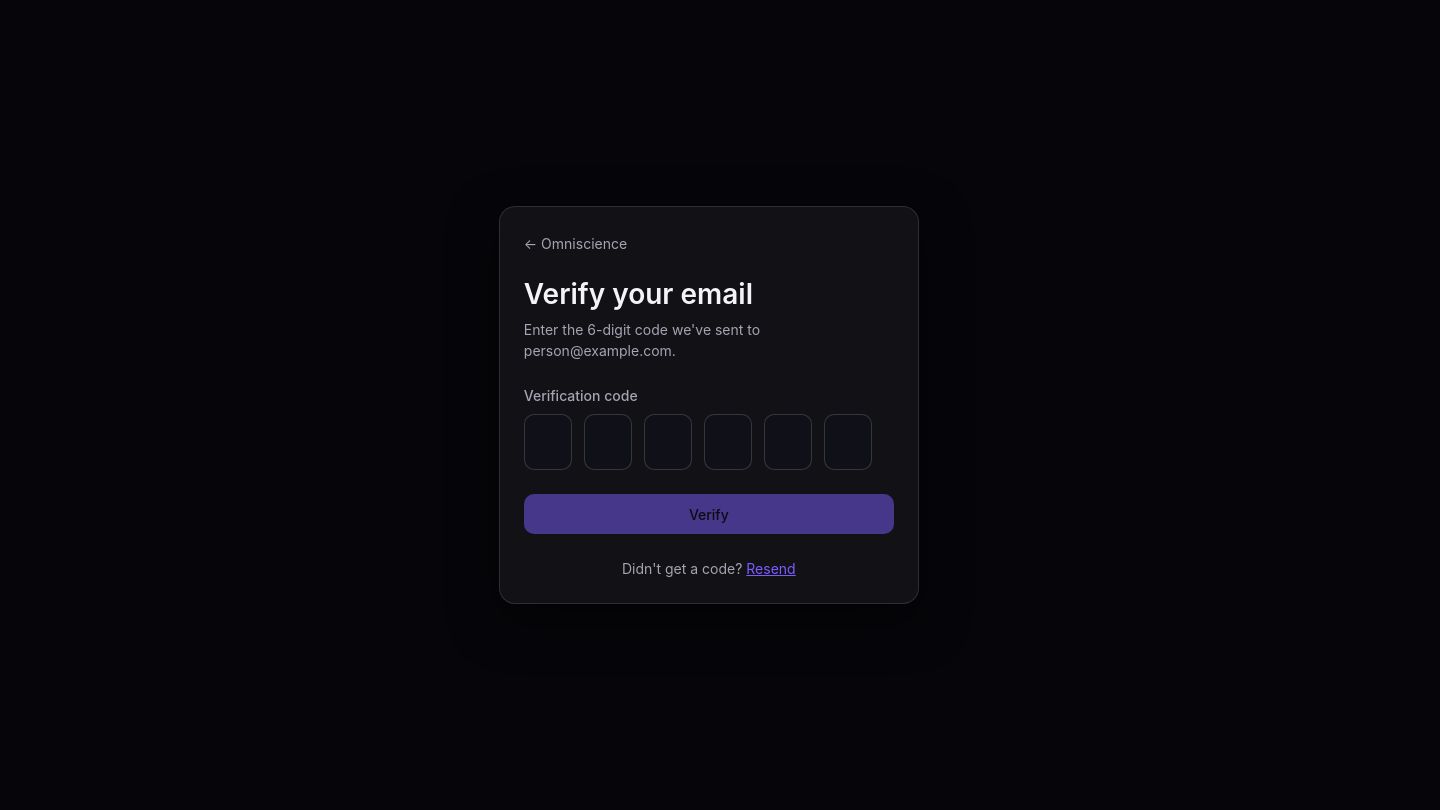
VerifyOtpPage › shows an inline OTP error and stays on the page when the code is incorrect
Step 1. Type "0" into the field named "Digit 1 of 6" → x=548, y=442, box x1=524 y1=414 x2=572 y2=470
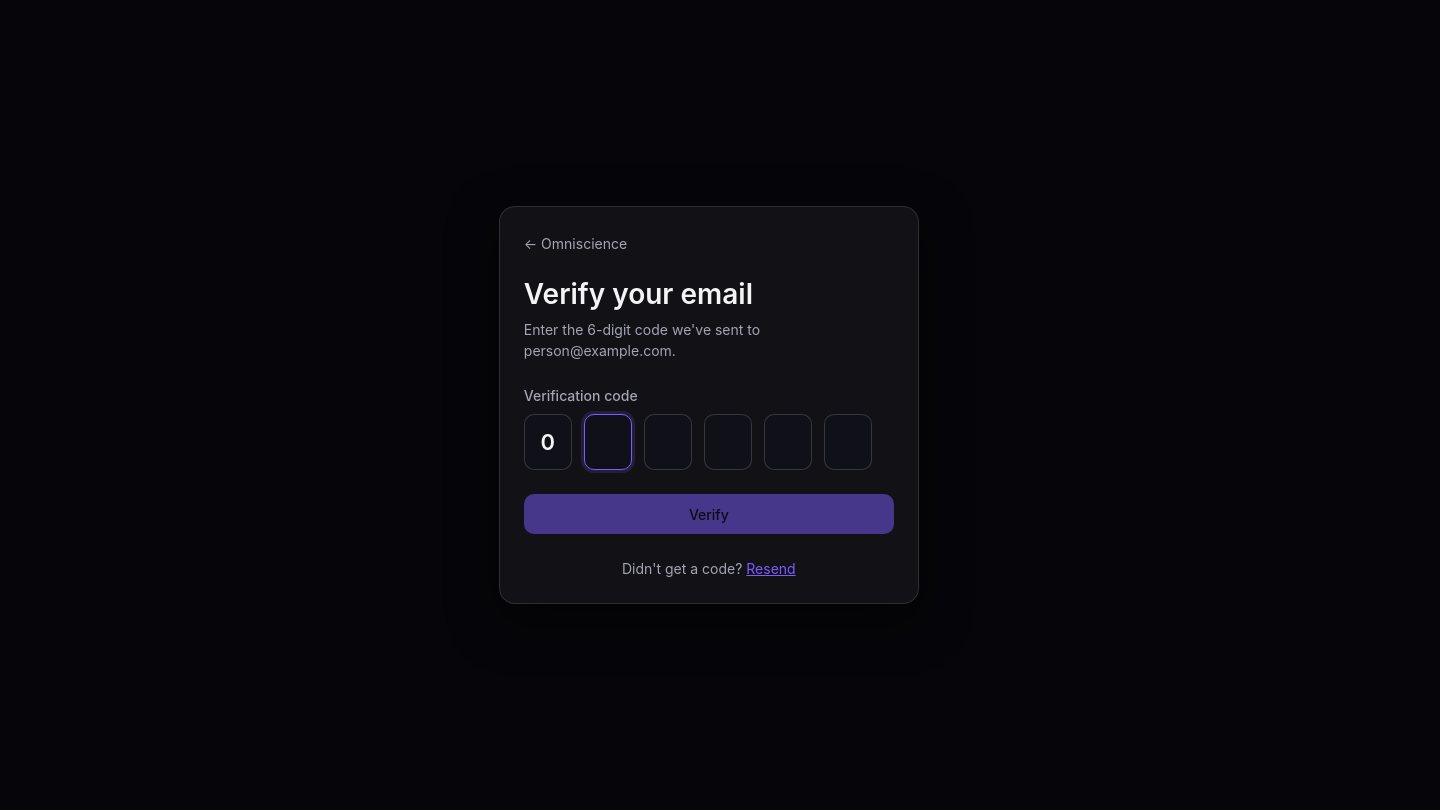
Step 2. Type "0" into the field named "Digit 2 of 6" → x=608, y=442, box x1=584 y1=414 x2=632 y2=470
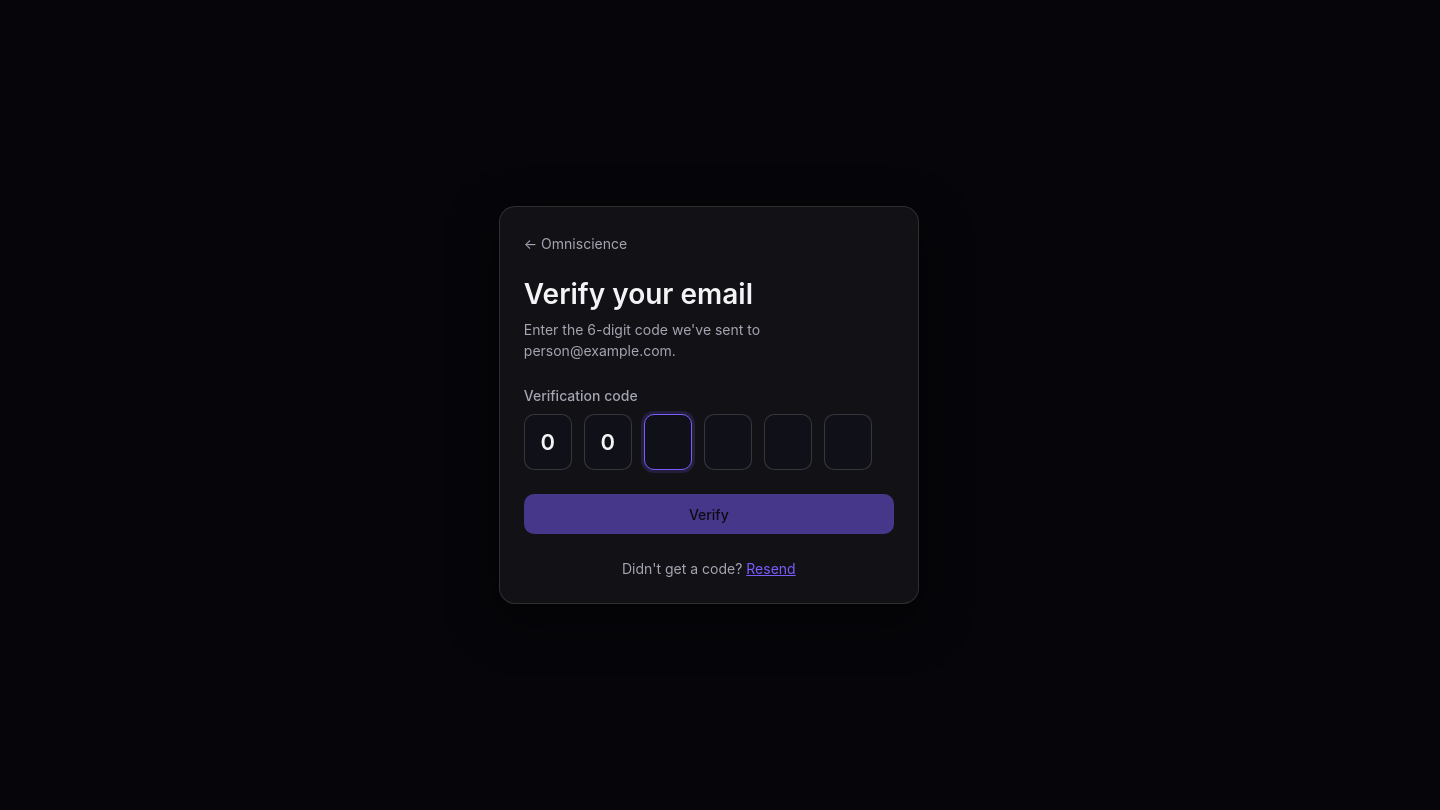
Step 3. Type "0" into the field named "Digit 3 of 6" → x=668, y=442, box x1=644 y1=414 x2=692 y2=470
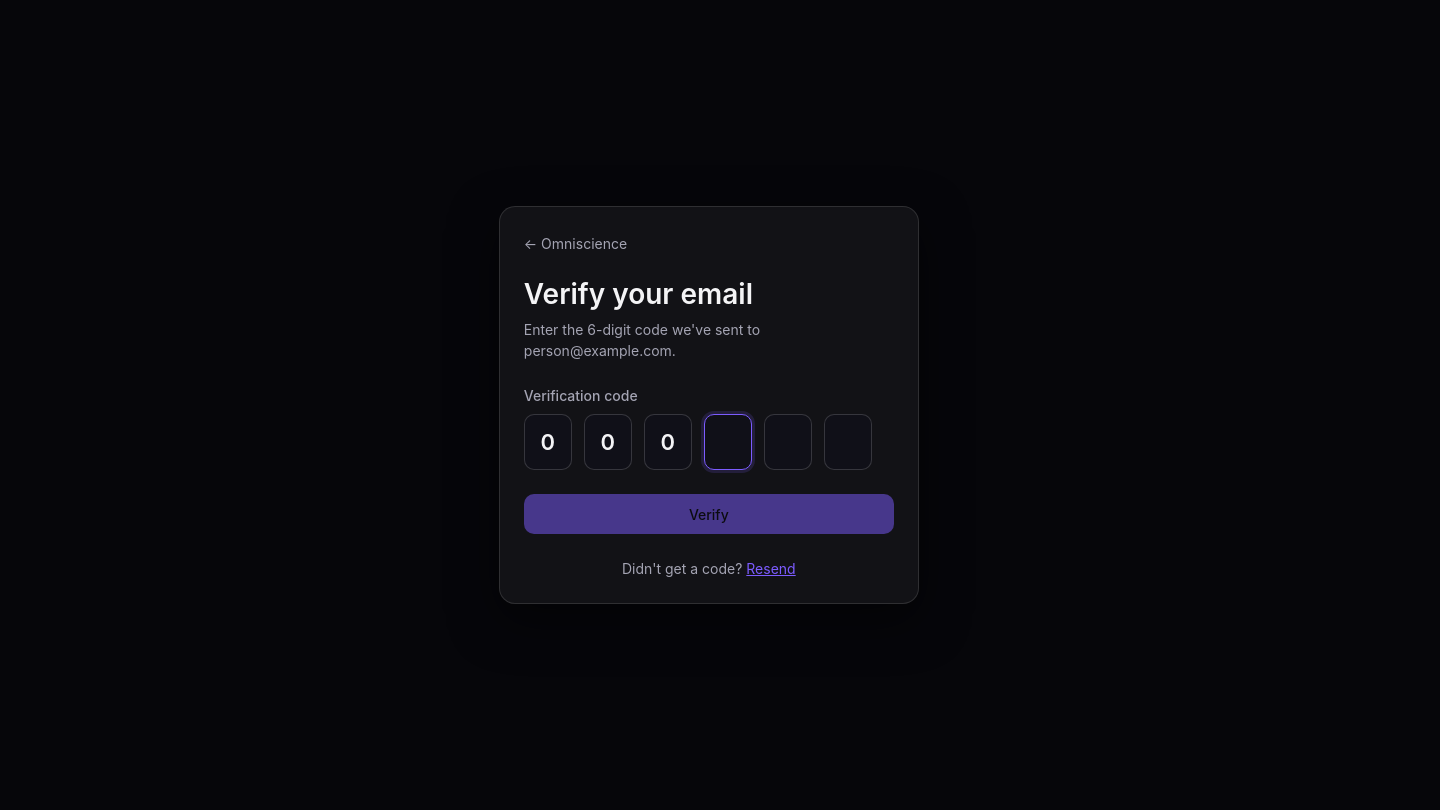
Step 4. Type "0" into the field named "Digit 4 of 6" → x=728, y=442, box x1=704 y1=414 x2=752 y2=470
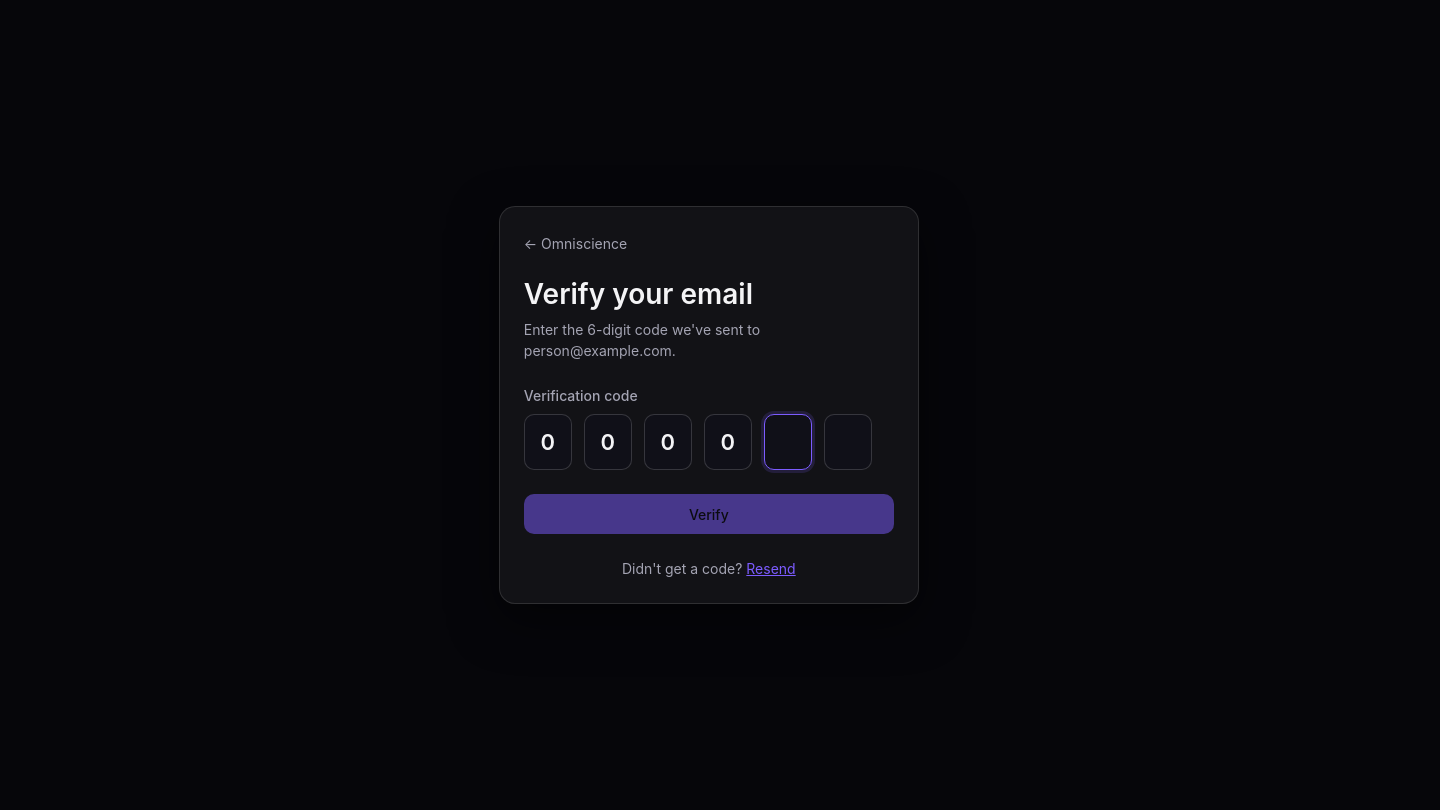
Step 5. Type "0" into the field named "Digit 5 of 6" → x=788, y=442, box x1=764 y1=414 x2=812 y2=470
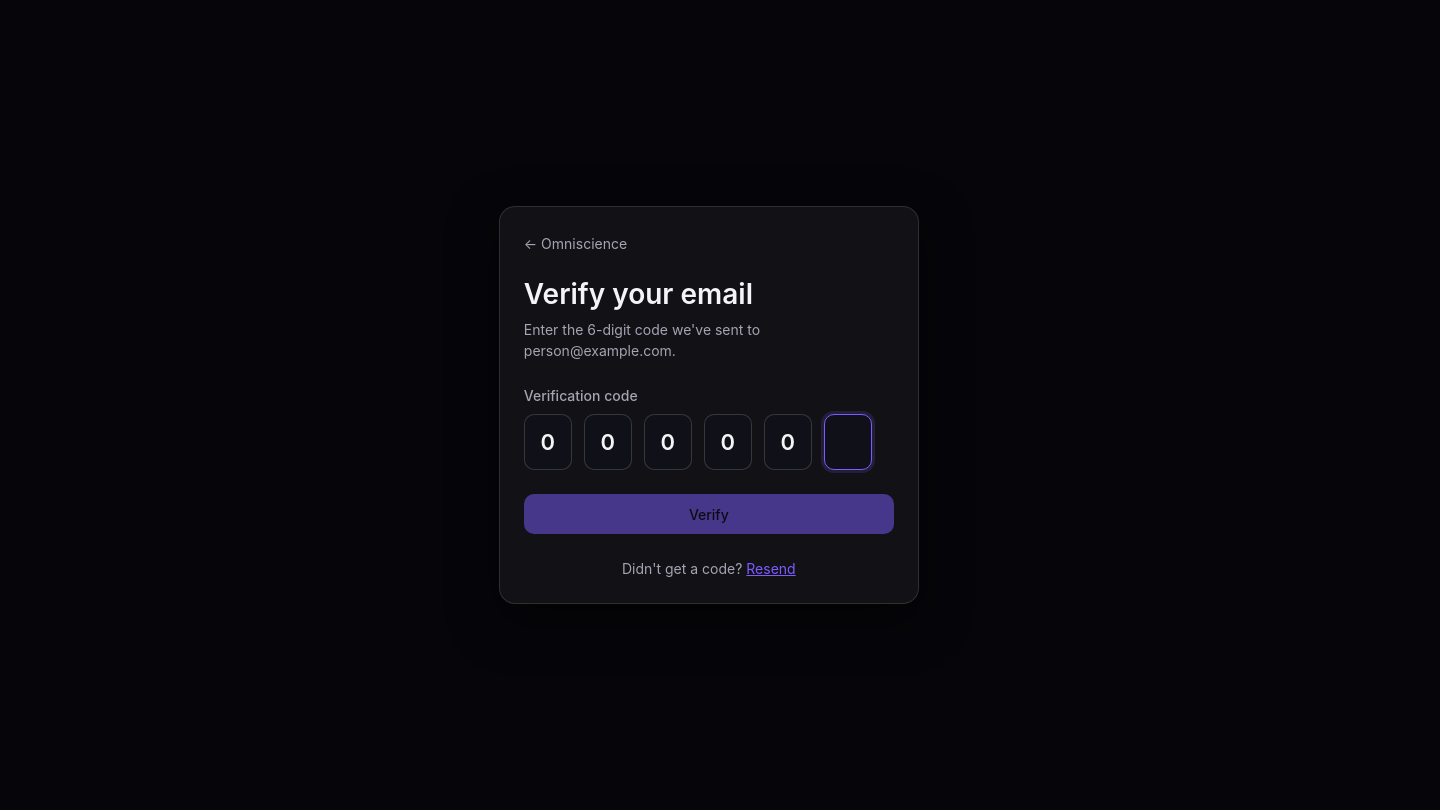
Step 6. Type "0" into the field named "Digit 6 of 6" → x=848, y=442, box x1=824 y1=414 x2=872 y2=470
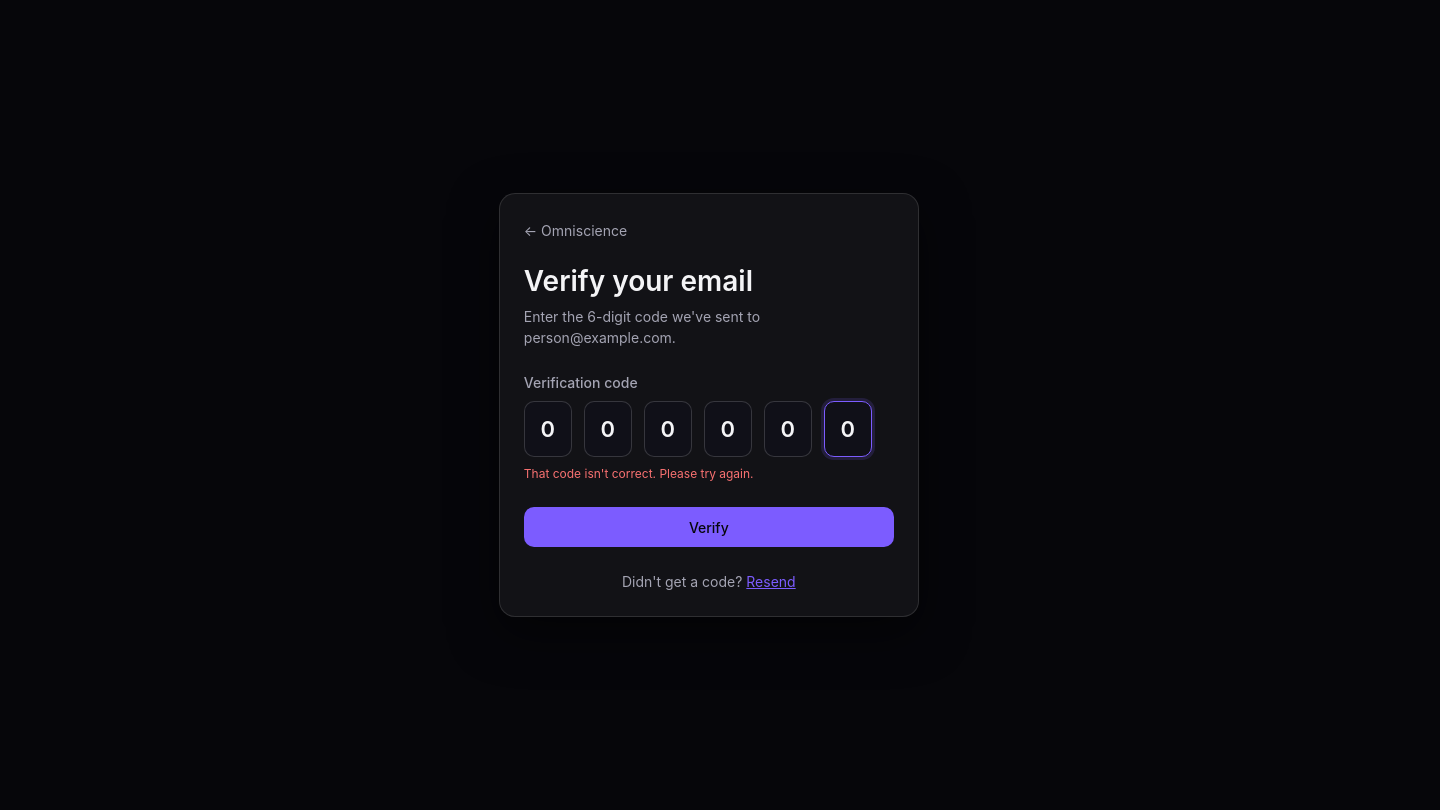
Now the text "That code isn't correct. Please try again." is shown, box x1=524 y1=466 x2=754 y2=481
